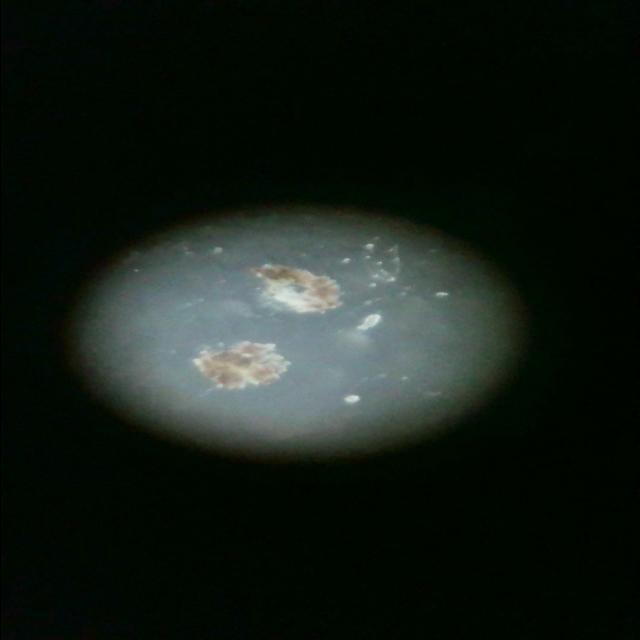alexandrium: (182, 334, 306, 394), (238, 255, 360, 312)
